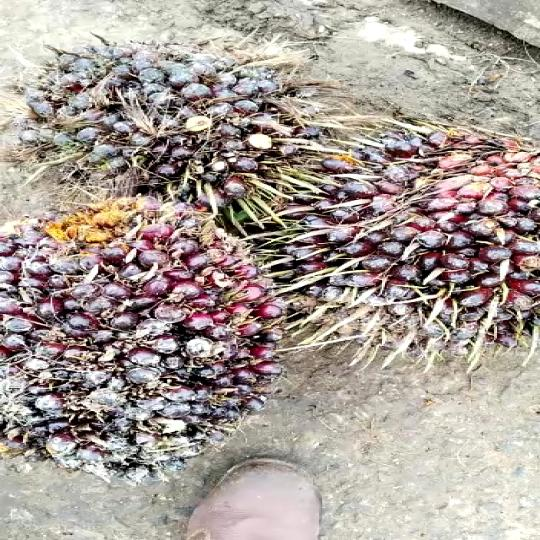kurang masak: (0, 188, 258, 484), (7, 33, 322, 217), (309, 130, 540, 360)
